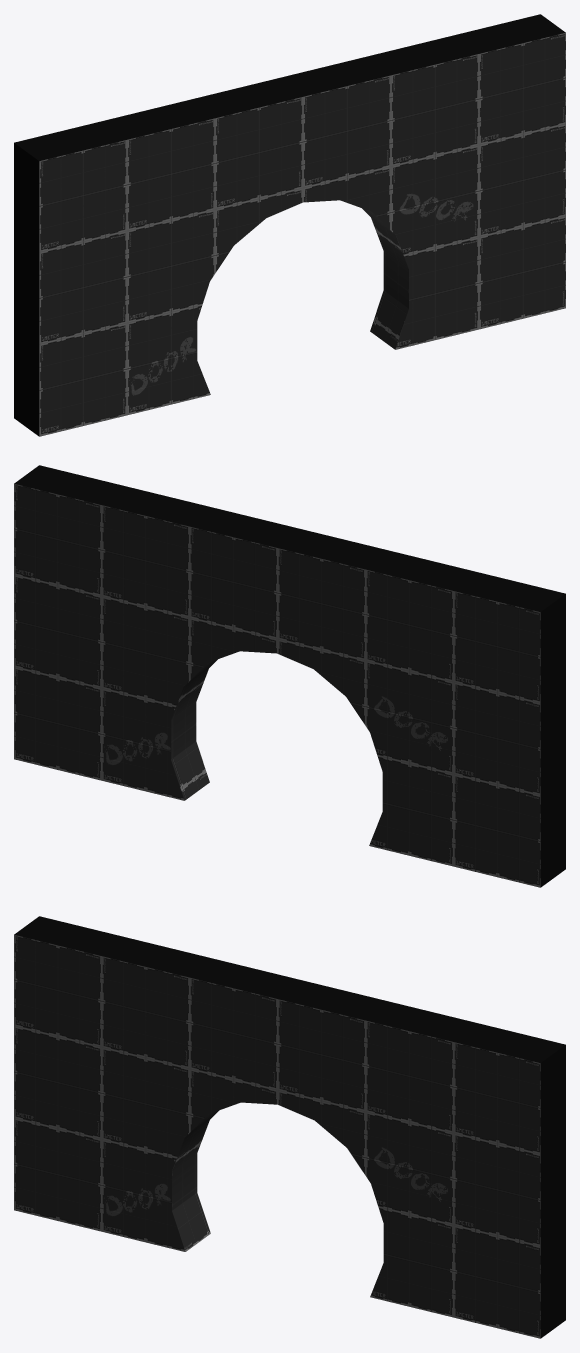
File: DoorHole2.FBX
The picture shows the model from 3 angles, top to bottom: view 1: azimuth 30°, elevation 25°; view 2: azimuth 150°, elevation 25°; view 3: azimuth 330°, elevation 25°; orthographic projection.
Parts seen in each view (by area): view 1: Hole; view 2: Hole; view 3: Hole.
Part boxes in pixels (x1,y1,x2,y2): Hole: [14, 14, 565, 436]; Hole: [14, 465, 565, 887]; Hole: [14, 916, 565, 1338].
Size of the model in its own units: 12 by 6 by 1.
